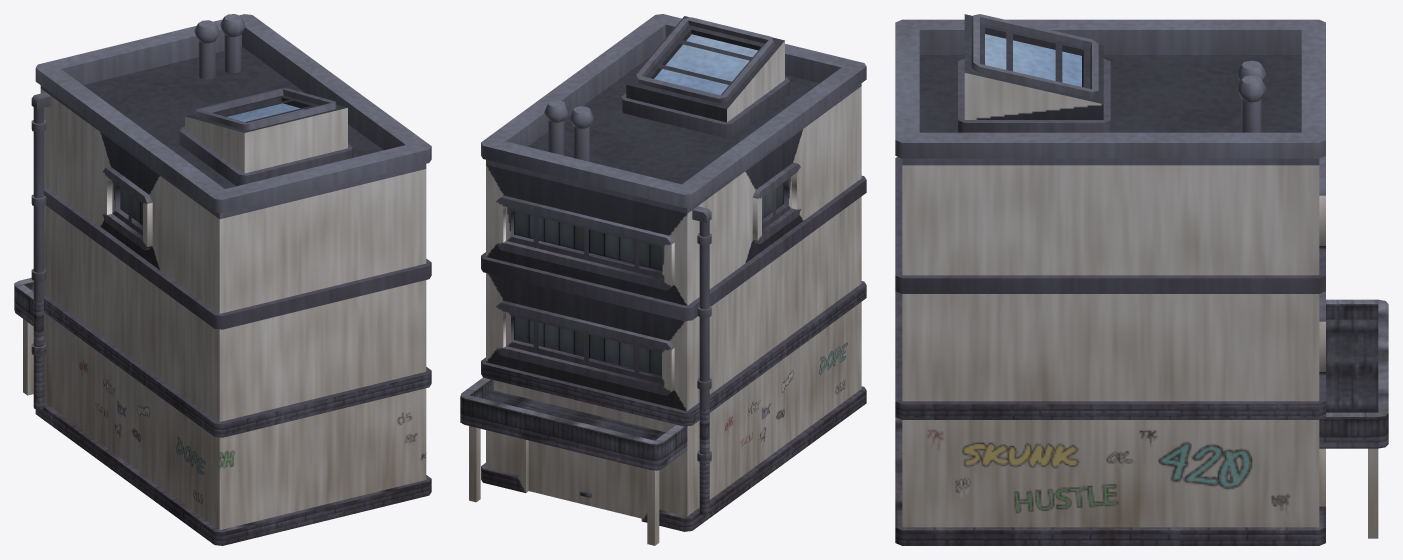
The model's file is building-d-white-scuffed.glb.
3 views of the same model, side by side, from view 1: azimuth 30°, elevation 25°; view 2: azimuth 150°, elevation 25°; view 3: azimuth 270°, elevation 25° (orthographic). The views are drawn at different scales.
Visible parts, largest first — view 1: building-d; view 2: building-d; view 3: building-d.
Boxes of the visible parts, x1,y1,x2,y2 form: building-d: (14, 14, 431, 545); building-d: (460, 14, 866, 545); building-d: (895, 14, 1388, 545).
Bounding box in the file's own units: 0.8836 × 1.41 × 1.42.
Materials: 1 (1 with a texture image).
